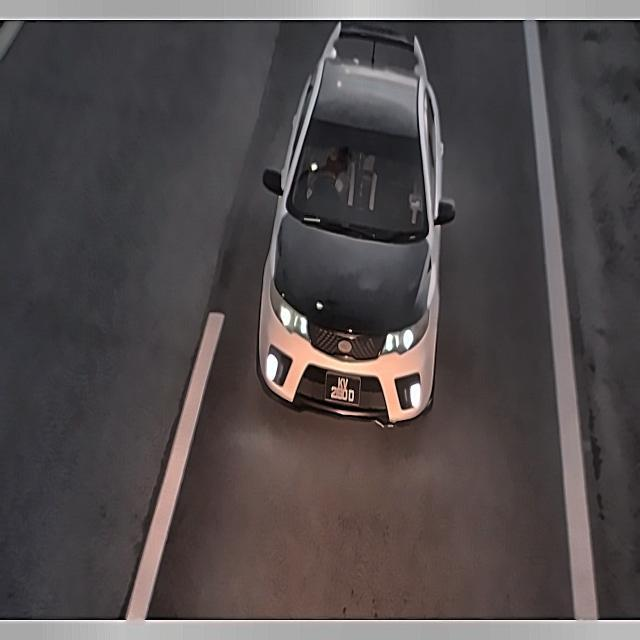car: (316, 355, 370, 413)
